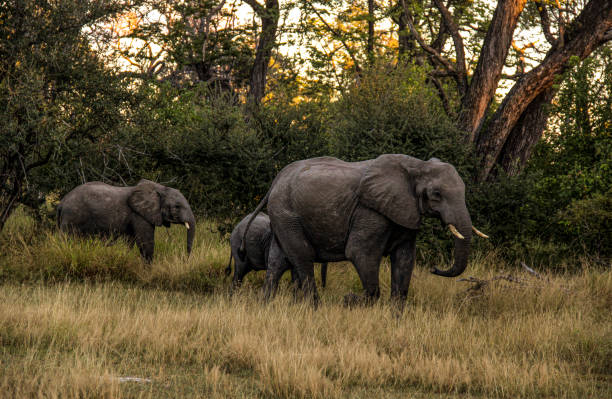africanelephant: (374, 147, 492, 249)
